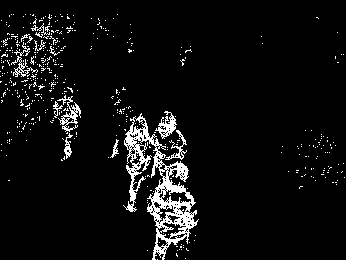person: (146, 163, 198, 259), (124, 115, 150, 211), (153, 108, 188, 179), (54, 87, 80, 159)
